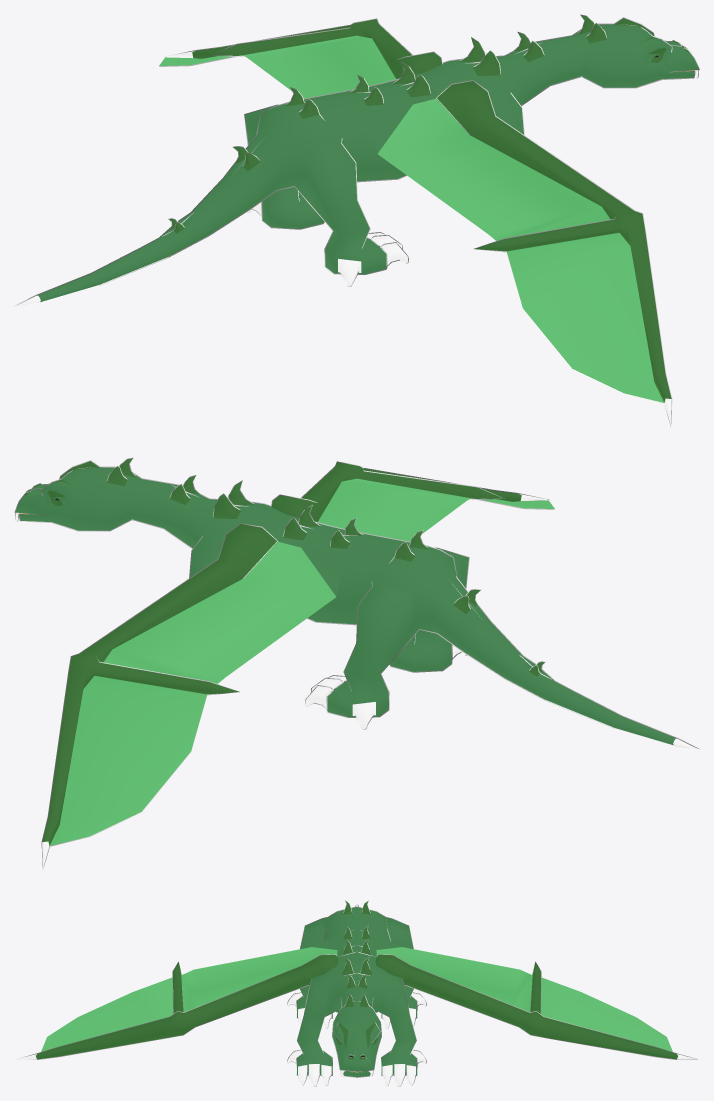
File: dragon_flat.glb
3 renders of one model, top to bottom at view 1: azimuth 30°, elevation 25°; view 2: azimuth 150°, elevation 25°; view 3: azimuth 270°, elevation 25°, orthographic. The views are drawn at different scales.
Parts seen in each view (by area): view 1: Cube; view 2: Cube; view 3: Cube.
Part boxes in pixels (left/top/right/bottom): Cube: left=14, top=14, right=699, bottom=427; Cube: left=14, top=457, right=699, bottom=870; Cube: left=15, top=900, right=698, bottom=1086.
Bounding box in the file's own units: 41.72 × 10.84 × 54.29.
